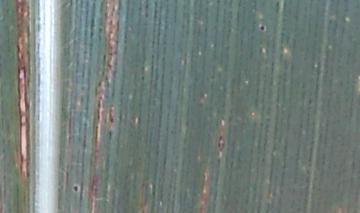tarspot: (258, 22, 268, 34), (71, 185, 81, 193)
